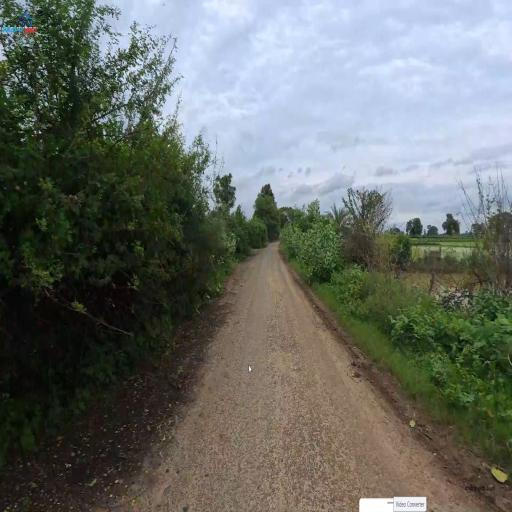ravelling: (191, 357, 366, 484)
